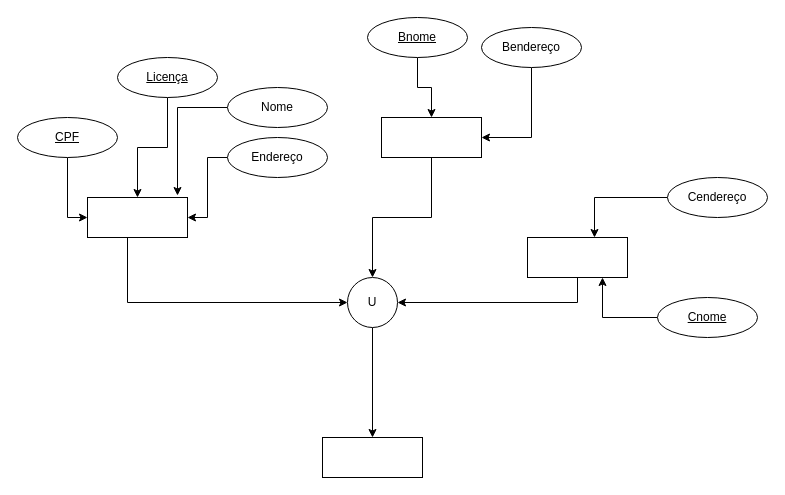
Some shapes in this 785 by 495 pixel diagram are drawn without their labels. Each missing label, with the centre of its shape:
"Banco" goes at [431,137].
"Company" goes at [577,257].
"Ownet" goes at [372,457].
"Pessoa" goes at [137,217].
